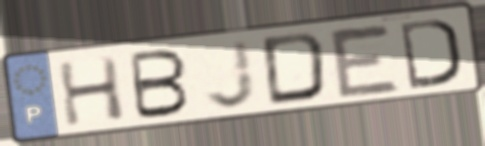B: (128, 47, 192, 122)
D: (259, 29, 329, 108), (396, 16, 463, 91)
E: (325, 22, 404, 100)
H: (54, 53, 128, 129)
J: (203, 37, 260, 111)
